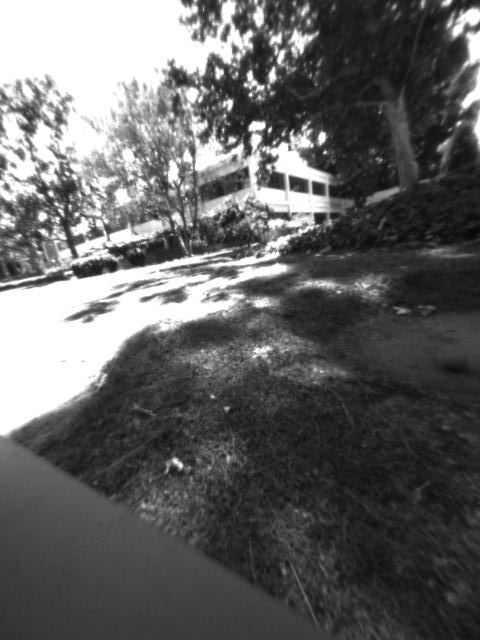dogtoy: (437, 345, 474, 379)
